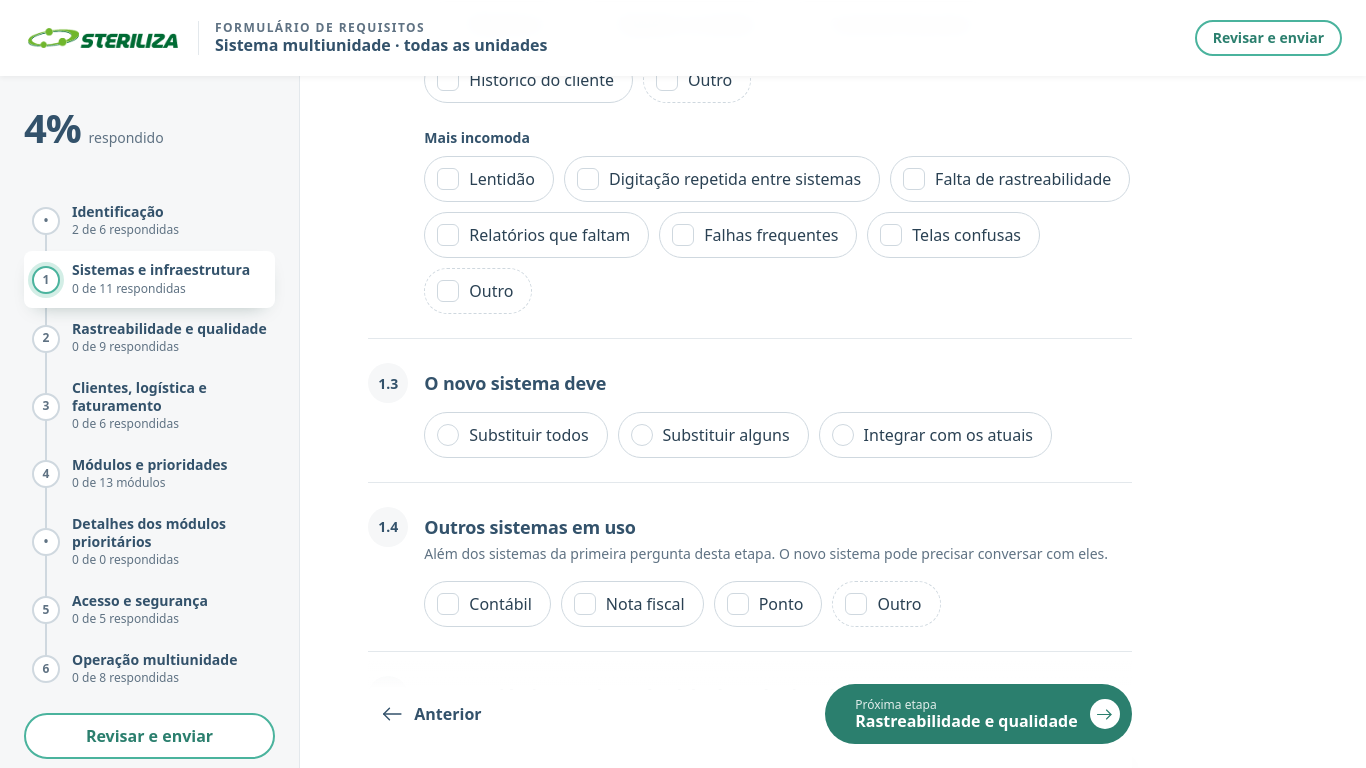
it: perguntas condicionais › pergunta o que migrar e quanto histórico quando o novo sistema substitui os atuais
(page scrolled)
Expected: the element "O que precisa vir dos sistemas atuais?" is not shown
Expected: the element "Quanto histórico levar?" is not shown
Click the radio button labelled "Substituir todos".
click(516, 435)  # box top-left (424, 412), bottom-right (608, 458)
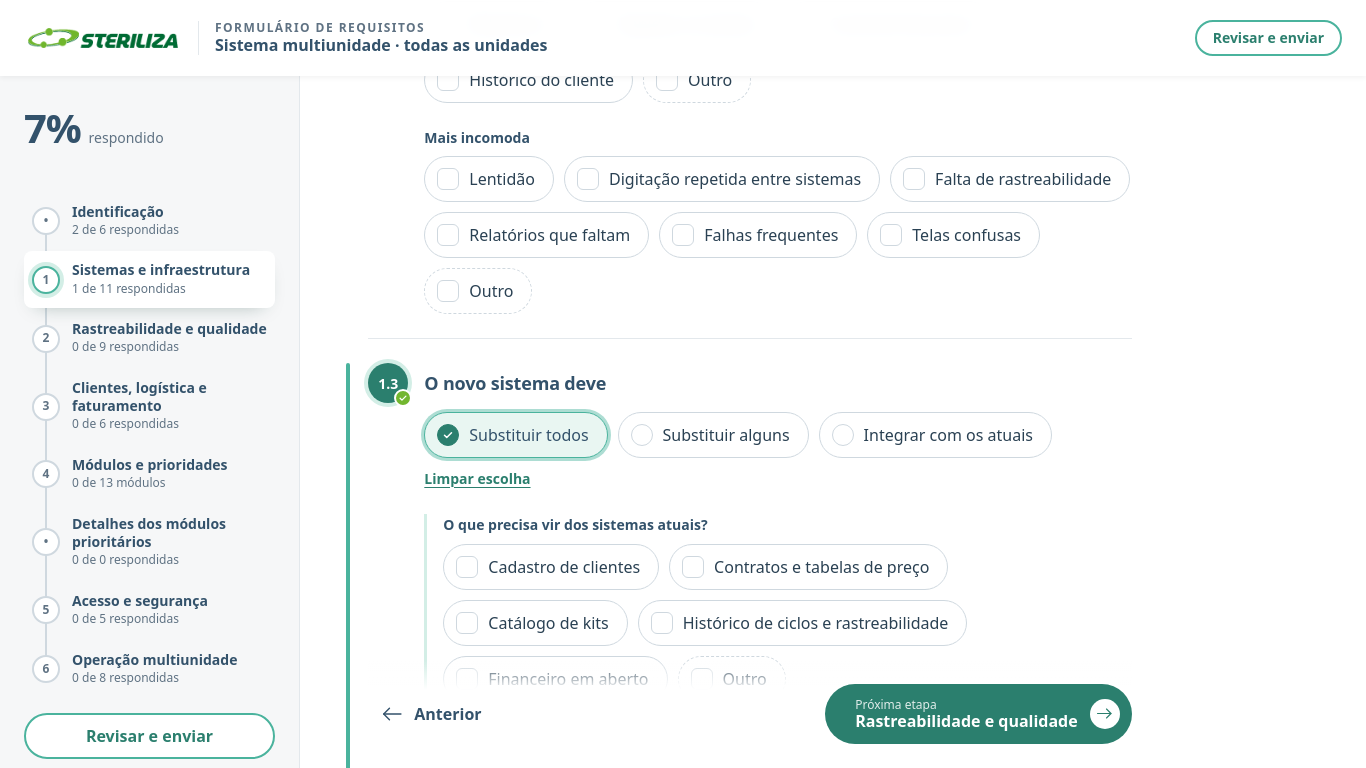
Expected: the element "Quais devem ser substituídos?" is not shown
Expected: the element named "O que precisa vir dos sistemas atuais?" is shown, top-left (443, 544), bottom-right (967, 702)
Click the radio button labelled "Substituir alguns".
click(713, 435)  # box top-left (618, 412), bottom-right (809, 458)
(page scrolled)
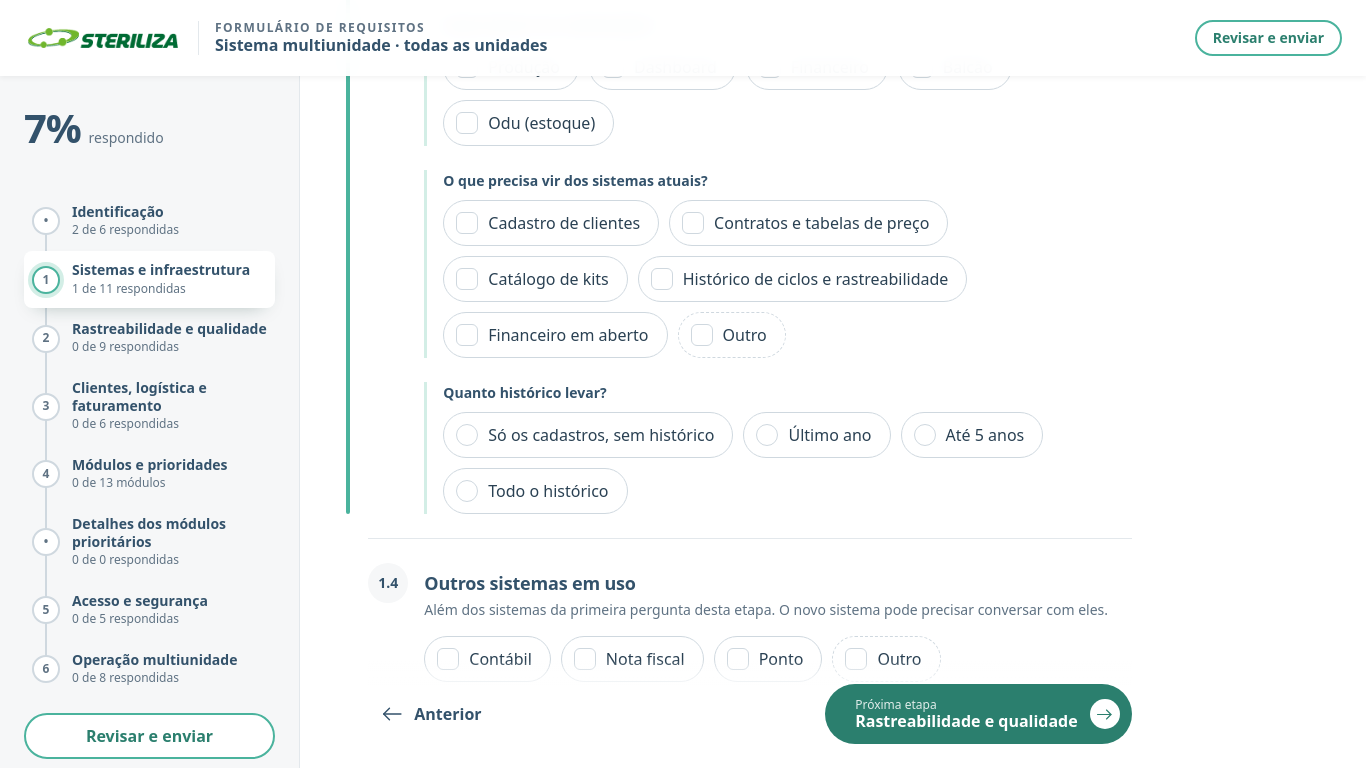
Click the radio button labelled "Último ano".
click(817, 434)  # box top-left (744, 412), bottom-right (891, 458)
(page scrolled)
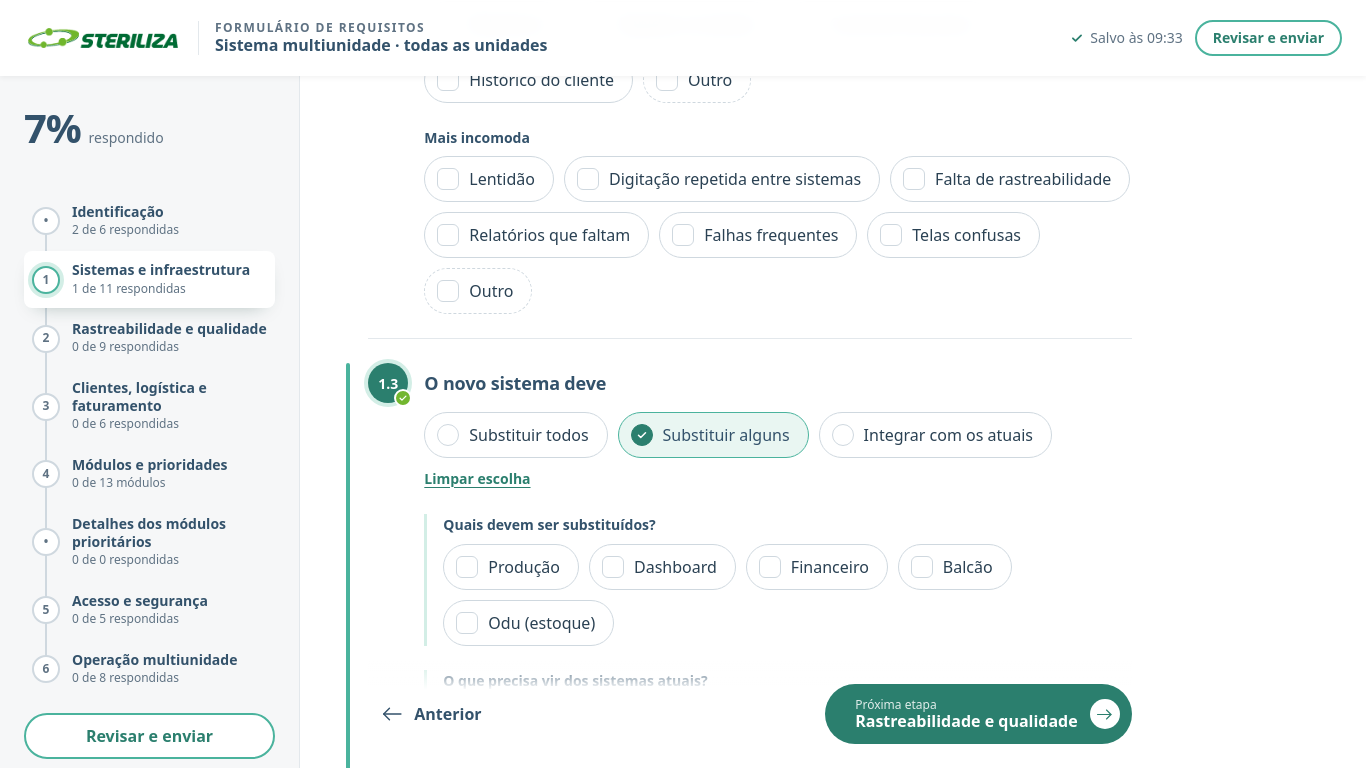
Click the radio button labelled "Integrar com os atuais".
click(935, 435)  # box top-left (819, 412), bottom-right (1052, 458)
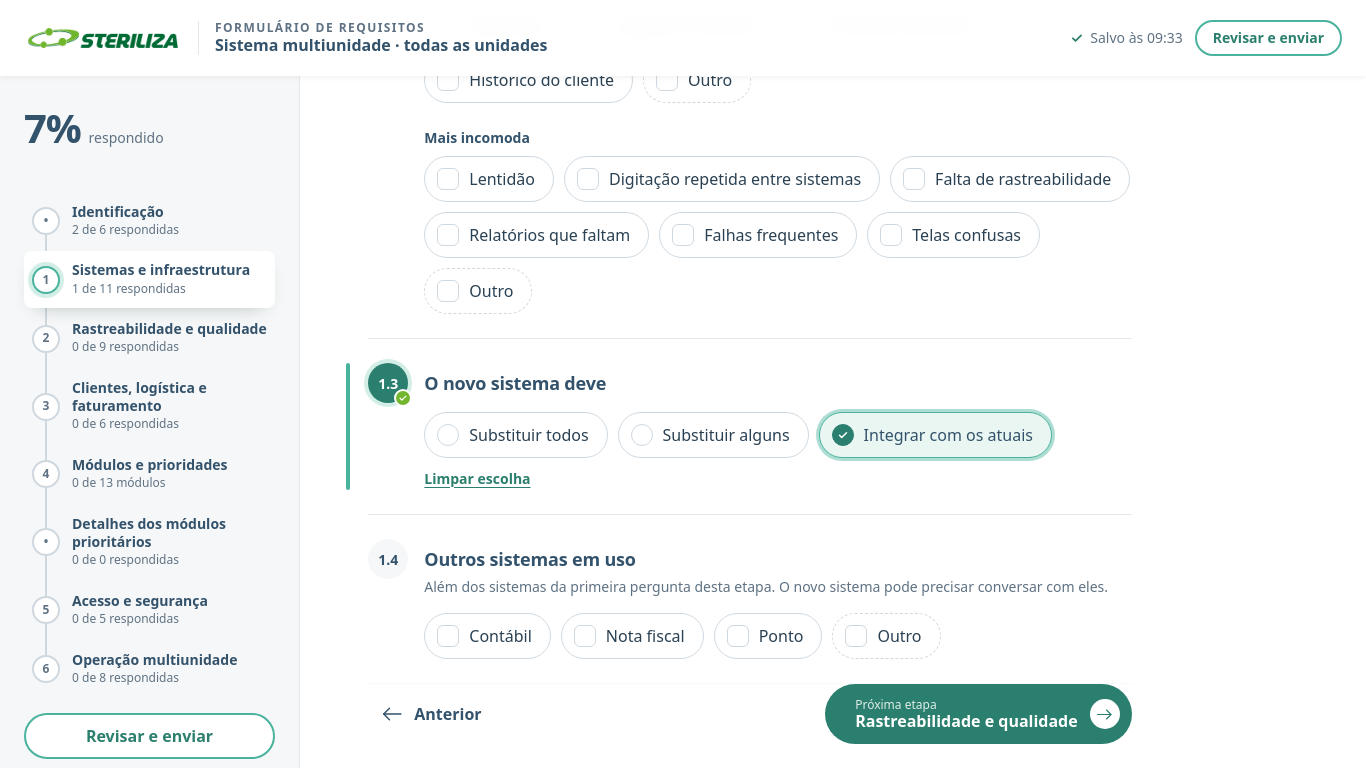
Expected: the text "O que precisa vir dos sistemas atuais?" is gone
